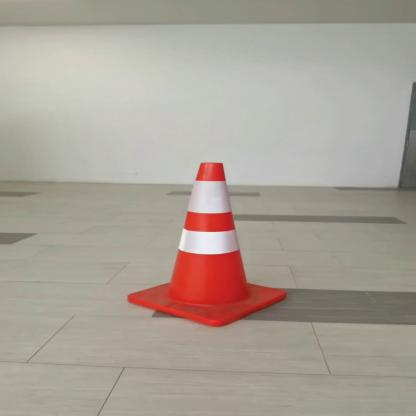cone: (122, 156, 293, 328)
